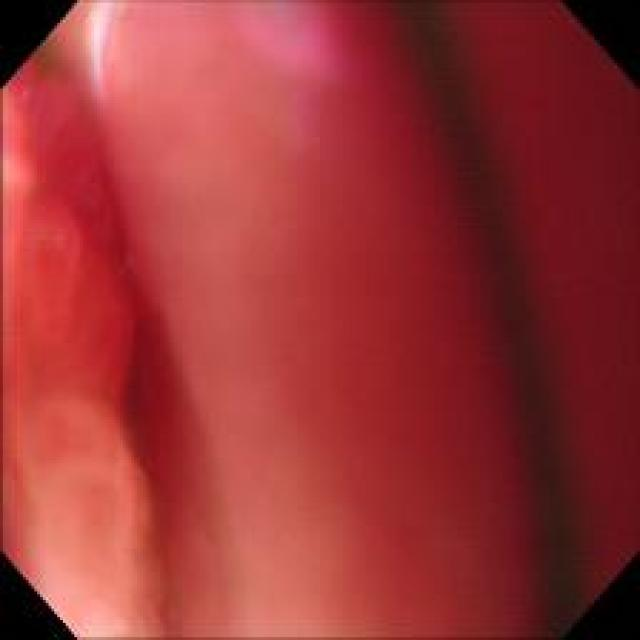blur: (1, 1, 636, 636)
color misalignment: (409, 20, 588, 629), (228, 15, 354, 86), (80, 5, 122, 94)
